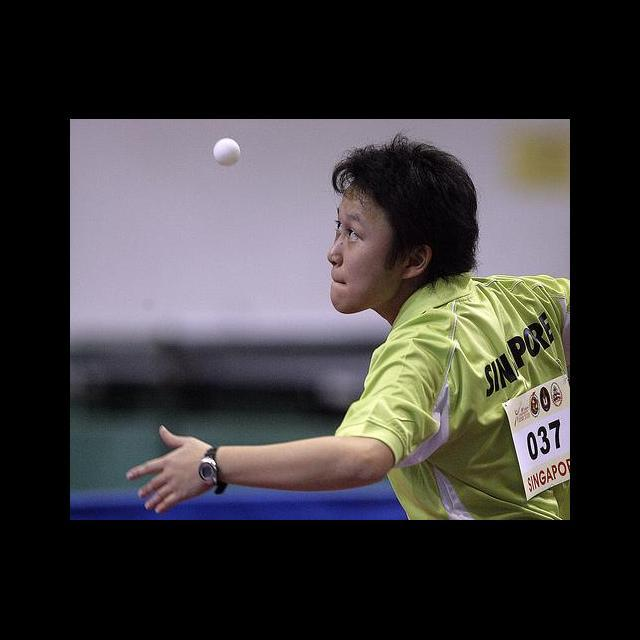ping-pong-ball: (212, 138, 242, 168)
